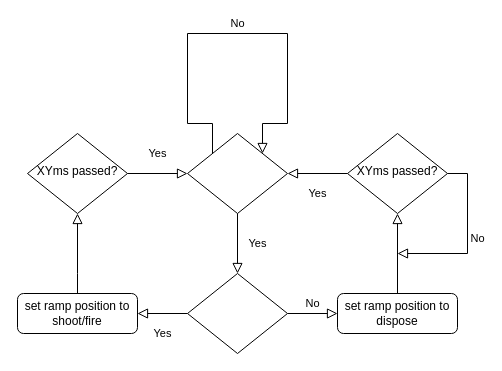
This 502x371 diagram has some shape labels left out. Here are the shapes that lost their labels. From the top down, the centre of each, then its label:
At point 237,173: "has_ball is TRUE?".
At point 237,313: "color sensor shows our alliance?".
